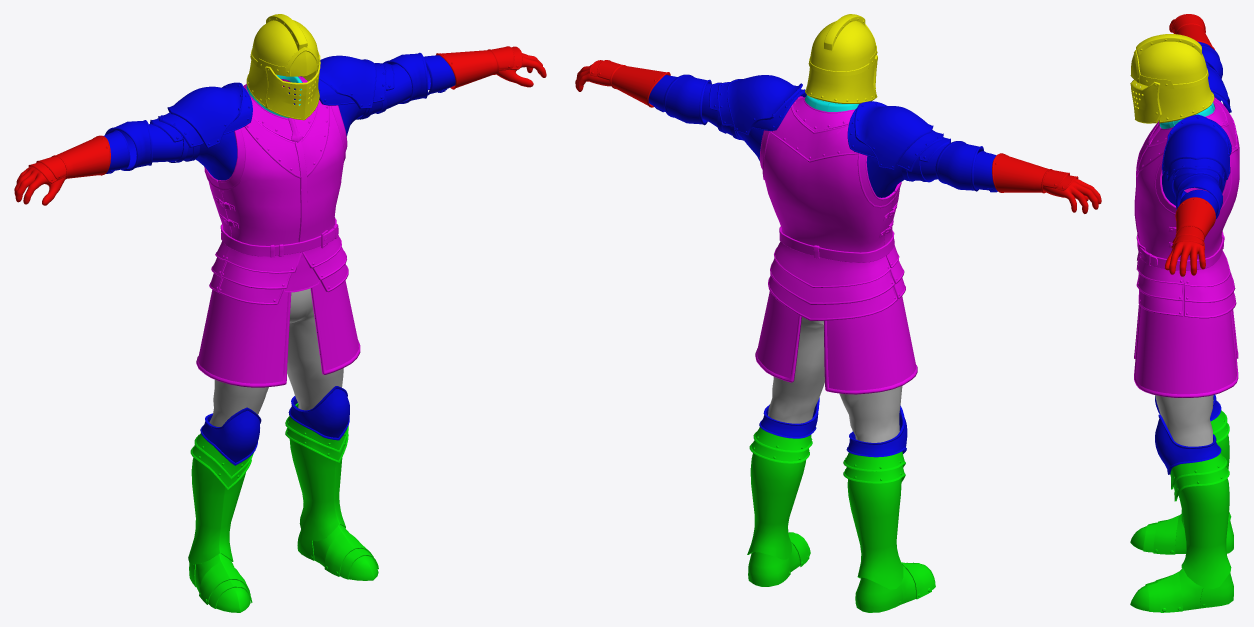
Rendered from Armor6.fbx.
3 renders of one model, left to right at view 1: azimuth 30°, elevation 25°; view 2: azimuth 150°, elevation 25°; view 3: azimuth 270°, elevation 25°, orthographic. The views are drawn at different scales.
Visible parts, largest first — view 1: CuriassFront, Skirt, StandardBootL, StandardBootR, CrusaderHelmet, Trousers, Faulds, PauldronR, StandardGauntletR, PauldronL, StandardGauntletL, armpitR (+9 smaller); view 2: CuriassBack, Skirt, StandardBootR, StandardBootL, Trousers, CrusaderHelmet, Faulds, PauldronR, PauldronL, StandardGauntletR, StandardGauntletL, CouterL (+7 smaller); view 3: StandardBootL, Skirt, CrusaderHelmet, CuriassFront, PauldronL, Faulds, CuriassBack, StandardGauntletL, StandardBootR, Trousers, PoleynL, CouterL (+9 smaller).
Boxes of the visible parts, bbox=[...] form: CuriassFront: bbox=[217, 82, 347, 273]; Skirt: bbox=[196, 280, 360, 387]; StandardBootL: bbox=[285, 403, 378, 580]; StandardBootR: bbox=[188, 433, 253, 612]; CrusaderHelmet: bbox=[246, 14, 320, 120]; Trousers: bbox=[209, 288, 343, 426]; Faulds: bbox=[209, 246, 348, 304]; PauldronR: bbox=[158, 82, 252, 148]; StandardGauntletR: bbox=[14, 135, 110, 205]; PauldronL: bbox=[300, 55, 386, 108]; StandardGauntletL: bbox=[436, 46, 546, 89]; armpitR: bbox=[149, 123, 237, 180]; CuriassBack: bbox=[759, 97, 895, 287]; Skirt: bbox=[755, 291, 917, 394]; StandardBootR: bbox=[843, 451, 935, 612]; StandardBootL: bbox=[747, 427, 812, 586]; Trousers: bbox=[768, 317, 902, 442]; CrusaderHelmet: bbox=[805, 14, 877, 103]; Faulds: bbox=[768, 258, 905, 320]; PauldronR: bbox=[847, 101, 943, 171]; PauldronL: bbox=[717, 75, 806, 135]; StandardGauntletR: bbox=[992, 153, 1101, 213]; StandardGauntletL: bbox=[575, 60, 670, 107]; CouterL: bbox=[663, 74, 711, 125]; StandardBootL: bbox=[1130, 453, 1233, 612]; Skirt: bbox=[1134, 284, 1238, 397]; CrusaderHelmet: bbox=[1130, 34, 1214, 123]; CuriassFront: bbox=[1134, 121, 1183, 284]; PauldronL: bbox=[1161, 114, 1231, 186]; Faulds: bbox=[1136, 269, 1236, 318]; CuriassBack: bbox=[1184, 97, 1239, 287]; StandardGauntletL: bbox=[1165, 197, 1215, 276]; StandardBootR: bbox=[1130, 410, 1233, 554]; Trousers: bbox=[1155, 276, 1213, 446]; PoleynL: bbox=[1155, 414, 1221, 474]; CouterL: bbox=[1175, 173, 1222, 219].
Size of the model in its own units: 184 by 188 by 34.64.
